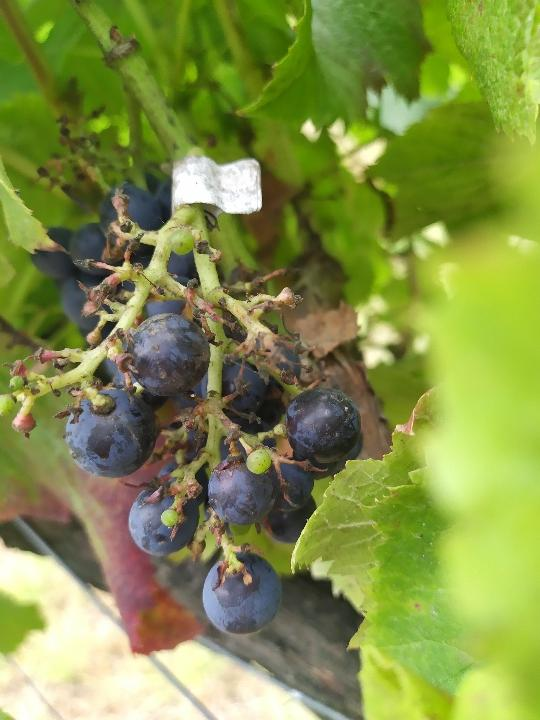grape: (3, 188, 367, 641)
